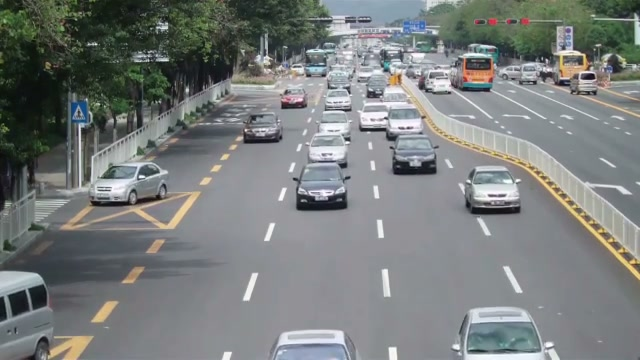bus: (458, 53, 496, 91), (466, 43, 500, 67)
car: (450, 306, 560, 359), (0, 270, 55, 358), (88, 161, 169, 205), (460, 165, 522, 214), (268, 329, 360, 360), (295, 162, 348, 211), (391, 134, 439, 175), (307, 133, 349, 168), (385, 105, 424, 140), (242, 112, 283, 143), (316, 109, 353, 143), (358, 103, 389, 131), (569, 71, 599, 96), (324, 88, 352, 111), (281, 87, 307, 108)
truck: (553, 51, 588, 85)
